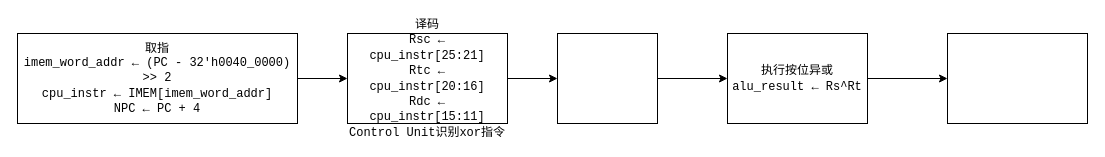
The diagram is 1105 pixels wide and 157 high, and some of its shapes have lost their labels. The shapes that lost their labels are listed below. From the top down, each one's centre as x and y in pixels, then its label:
At (x=607, y=78): "读取操作数 Rs ← R[Rsc] Rt ← R[Rtc]".
At (x=1017, y=78): "写回并更新PC R[Rdc] ← alu_result PC ← NPC".
